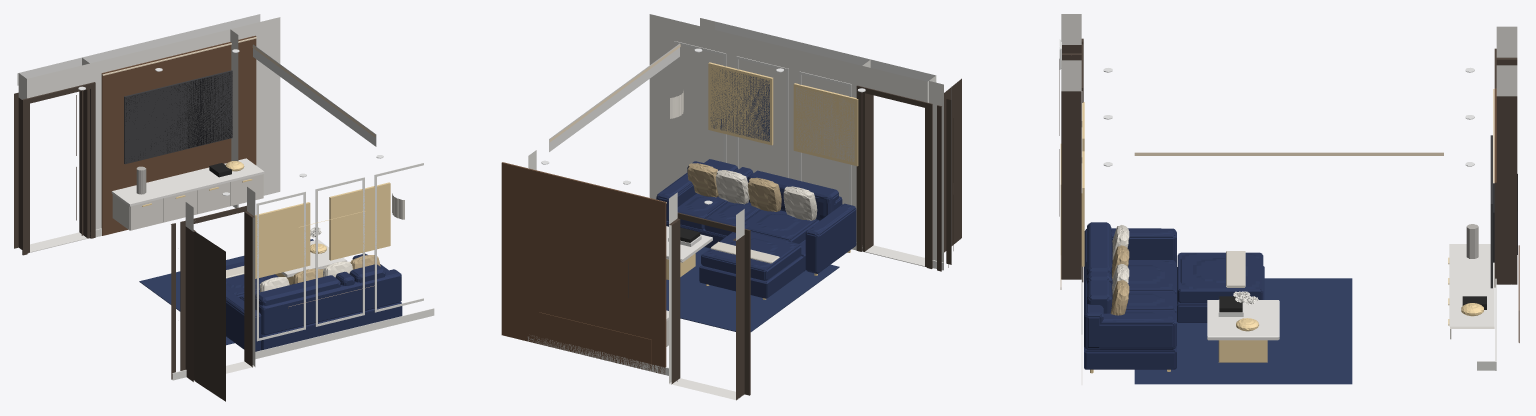
Rendered from LIVING.glb.
The picture shows the model from 3 angles, left to right: view 1: azimuth 30°, elevation 25°; view 2: azimuth 150°, elevation 25°; view 3: azimuth 270°, elevation 25°; orthographic projection. The views are drawn at different scales.
Visible parts, largest first — view 1: WEB_LIVING; view 2: WEB_LIVING; view 3: WEB_LIVING.
Part boxes in pixels (x1,y1,x2,y2): WEB_LIVING: [14, 14, 434, 401]; WEB_LIVING: [501, 14, 961, 400]; WEB_LIVING: [1059, 14, 1519, 384].
Size of the model in its own units: 4.15 by 2.5 by 5.49.
